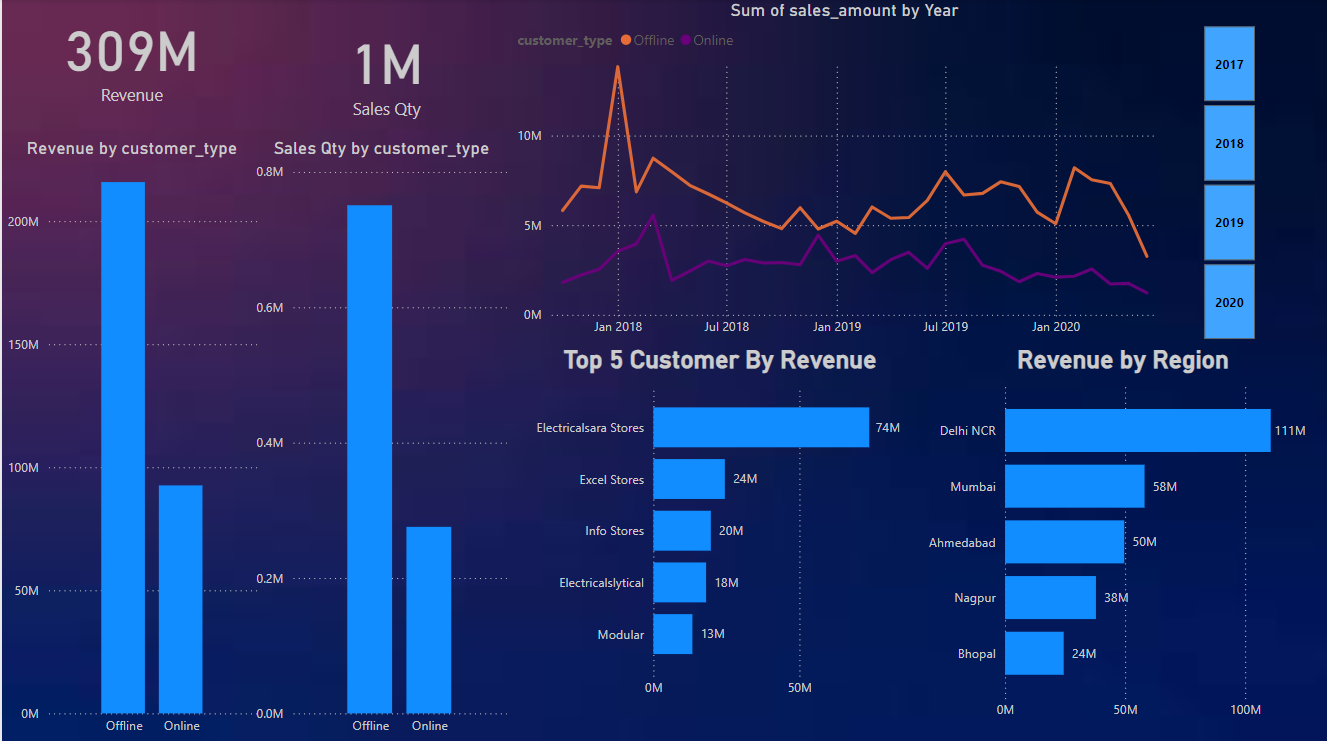

Layout of this report page (visuals, bound fields, positions):
{"tool":"powerbi","page":{"name":"Customer","canvas":[1280,720],"ordinal":1},"visuals":[{"type":"card","fields":{"Values":["Base masures.Revenue"]},"box":[0,0,251,108.2],"z":0},{"type":"columnChart","fields":{"Category":["customers.customer_type"],"Y":["Base masures.Revenue"]},"box":[0,134.2,251,585.8],"z":1000},{"type":"card","fields":{"Values":["Base masures.Sales Qty"]},"box":[251,0,240.9,134.2],"z":2000},{"type":"columnChart","fields":{"Category":["customers.customer_type"],"Y":["Base masures.Sales Qty"]},"box":[239.5,134.2,252.5,585.8],"z":3000},{"type":"lineChart","title":"Sum of sales_amount by Year","fields":{"Y":["Sum(transactions.sales_amount)"],"Series":["customers.customer_type"],"Category":["date.cy_date.Variation.Date Hierarchy.Year","date.cy_date.Variation.Date Hierarchy.Quarter","date.cy_date.Variation.Date Hierarchy.Month","date.cy_date.Variation.Date Hierarchy.Day"]},"box":[492,0,642,334.7],"z":4000},{"type":"slicer","fields":{"Values":["date.year"]},"box":[1134,18.8,99.6,316],"z":5000},{"type":"clusteredBarChart","title":"Top 5 Customer By Revenue","fields":{"Y":["Base masures.Revenue"],"Category":["customers.custmer_name"]},"box":[502.1,334.7,382.3,363.6],"z":6000},{"type":"clusteredBarChart","title":"Revenue by Region","fields":{"Y":["Base masures.Revenue"],"Category":["markets.markets_name"]},"box":[884.4,334.7,395.3,385.2],"z":7000}]}

Visuals, with their boxes in screenshot pixels (x1, y1, x2, y2), scaled from the page's 1280x720 canvas onto the 1327x741 screenshot:
card - Base masures.Revenue: pyautogui.locateOnScreen(0, 0, 260, 111)
columnChart - customers.customer_type x Base masures.Revenue: pyautogui.locateOnScreen(0, 138, 260, 740)
card - Base masures.Sales Qty: pyautogui.locateOnScreen(260, 0, 510, 138)
columnChart - customers.customer_type x Base masures.Sales Qty: pyautogui.locateOnScreen(248, 138, 510, 740)
"Sum of sales_amount by Year" lineChart: pyautogui.locateOnScreen(510, 0, 1176, 344)
slicer - date.year: pyautogui.locateOnScreen(1176, 19, 1279, 345)
"Top 5 Customer By Revenue" clusteredBarChart: pyautogui.locateOnScreen(521, 344, 917, 719)
"Revenue by Region" clusteredBarChart: pyautogui.locateOnScreen(917, 344, 1326, 740)
